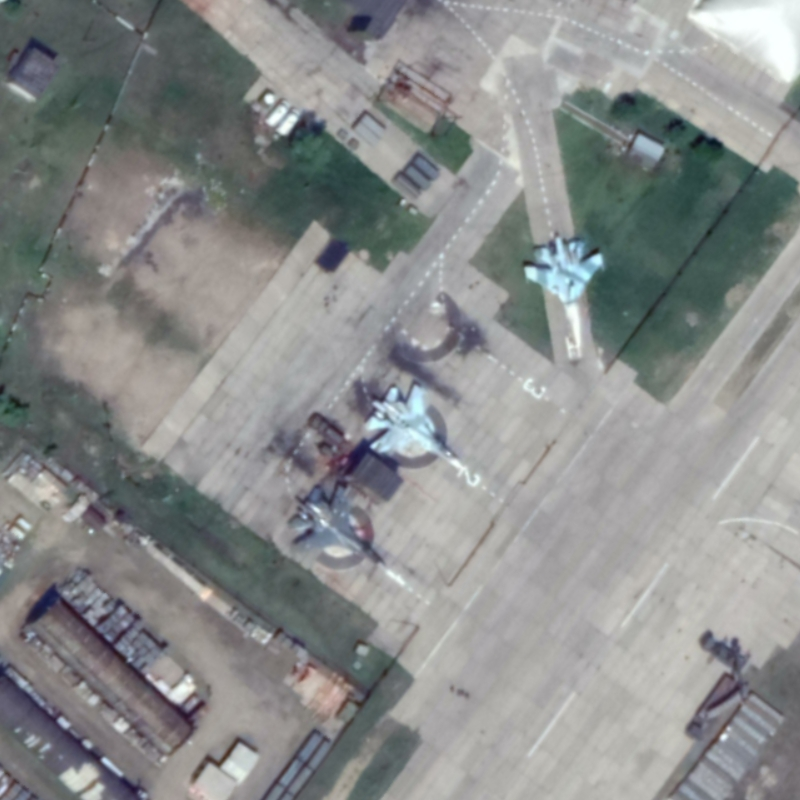A1: (520, 235, 606, 362), (285, 480, 390, 573), (361, 381, 468, 472)
